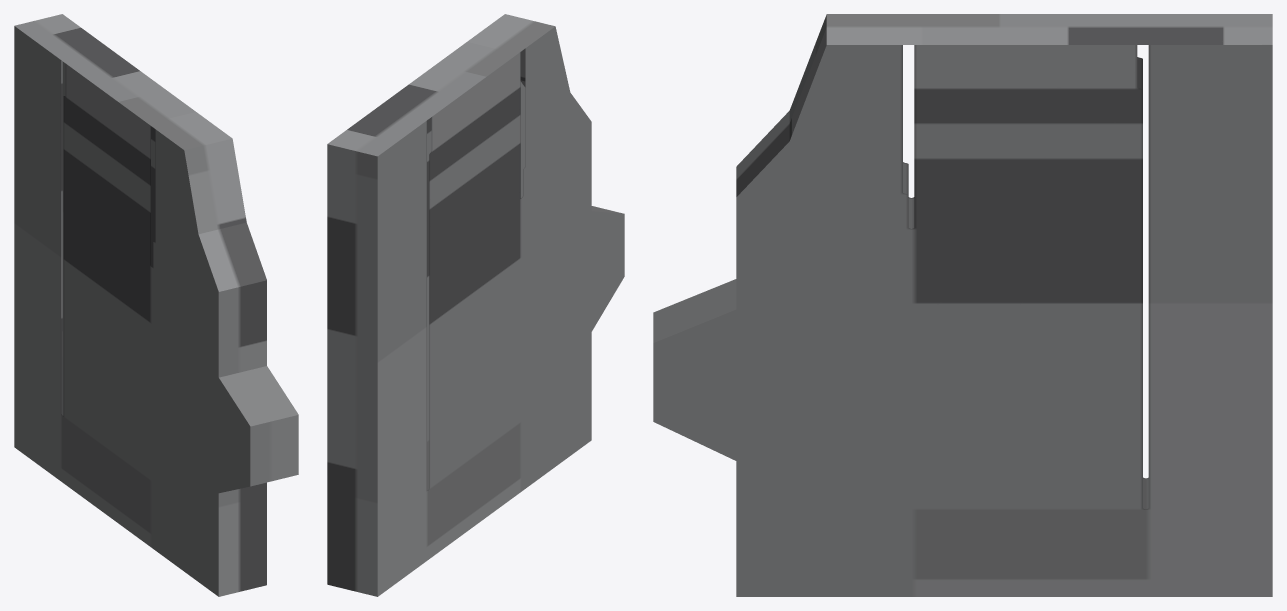
The picture shows the model from 3 angles, left to right: view 1: azimuth 30°, elevation 25°; view 2: azimuth 150°, elevation 25°; view 3: azimuth 270°, elevation 25°; orthographic projection. The views are drawn at different scales.
Size of the model in its own units: 0.118 by 0.984 by 1.
